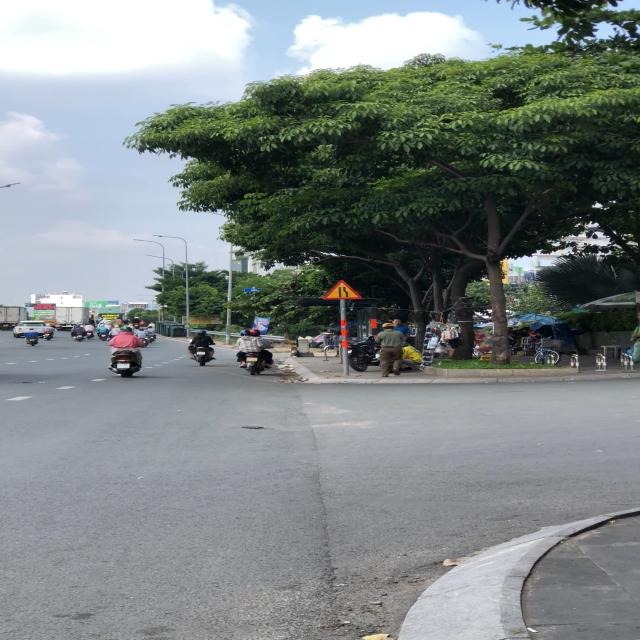Bien bao duong bi thu hep: (323, 279, 364, 300)
